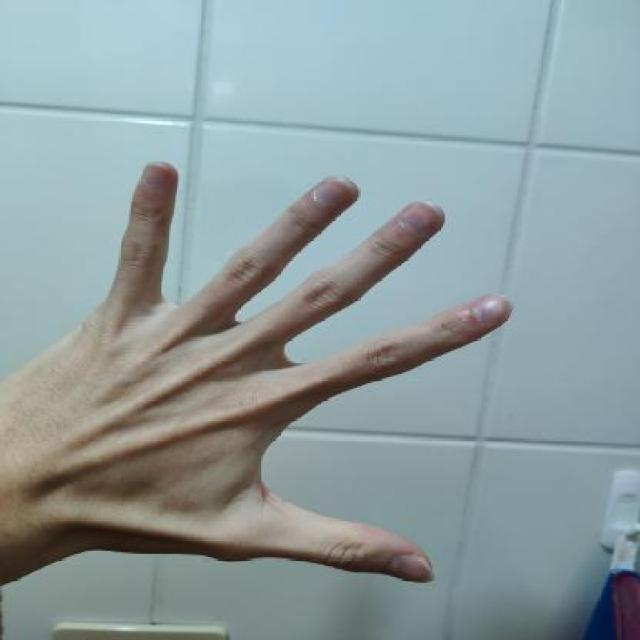bare_hand: (0, 140, 518, 605)
